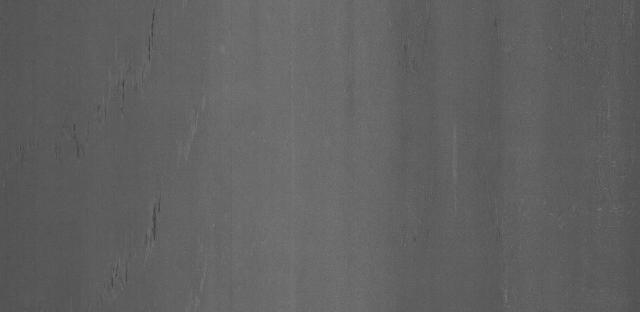silk_spot: (100, 13, 181, 94), (162, 87, 217, 183), (117, 198, 195, 259), (172, 246, 232, 312)
